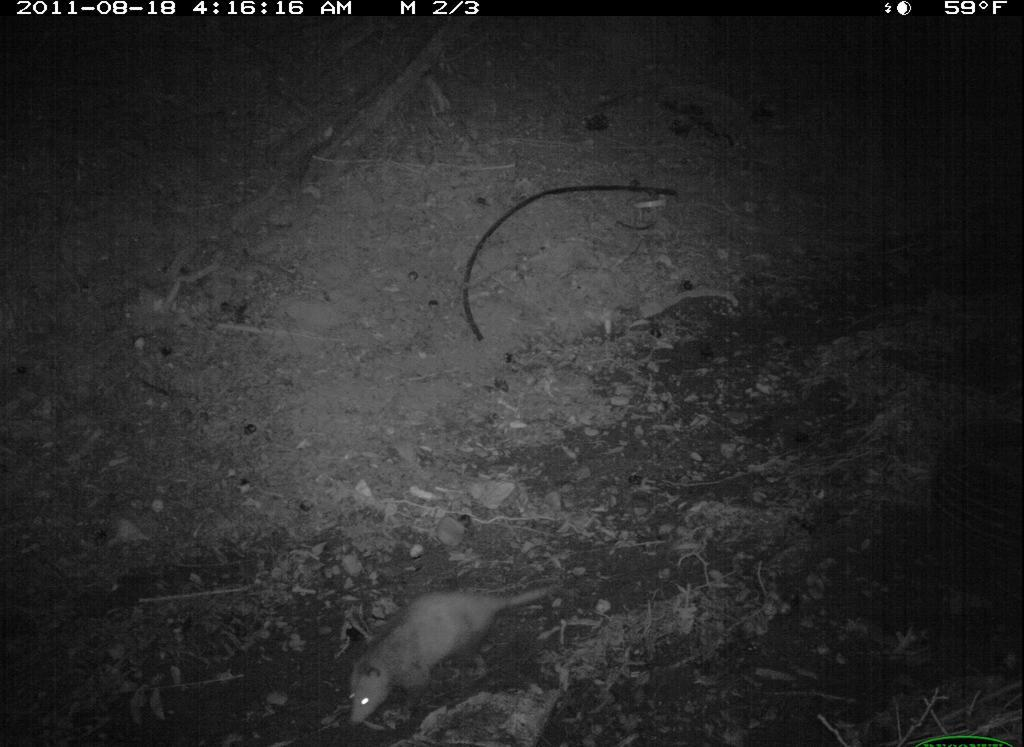opossum: (336, 575, 574, 734)
